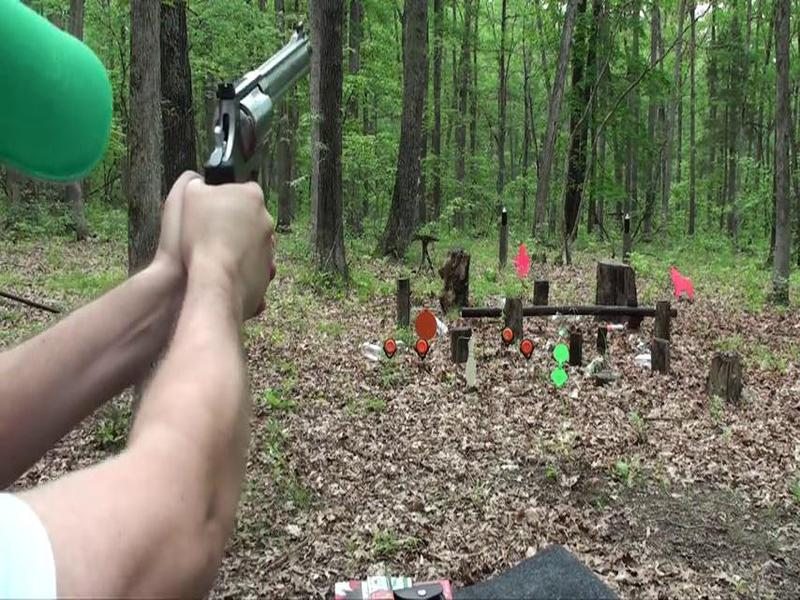Revolver: (193, 12, 329, 205)
